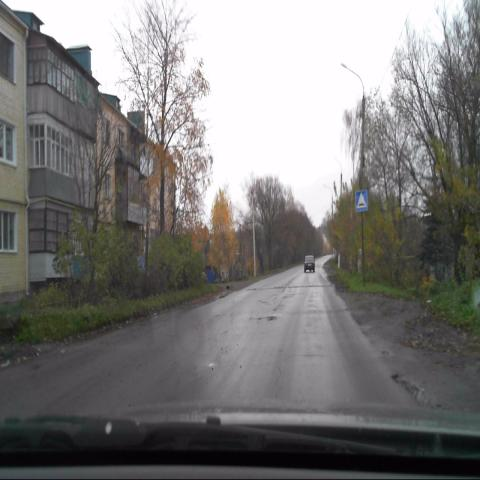5_20: (355, 190, 368, 212)
